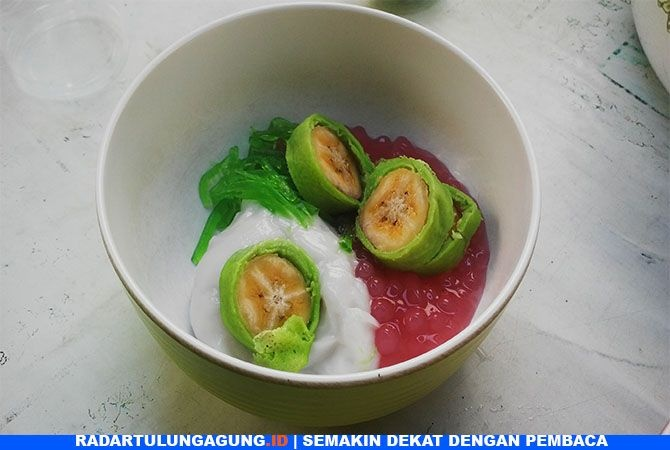pisang_ijo: (357, 159, 447, 270)
